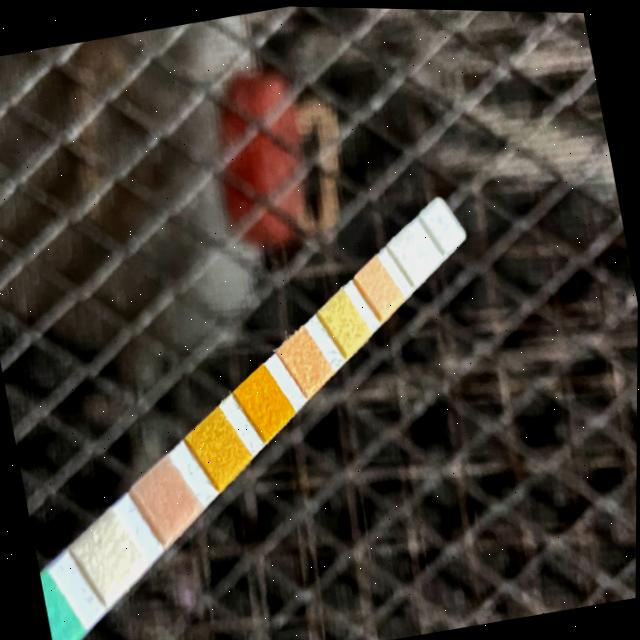Bilirubin: (86, 521, 134, 591)
Blood: (247, 377, 285, 433)
Glucose: (42, 586, 70, 640)
Ketone: (147, 468, 188, 528)
Leukocytes: (433, 208, 454, 239)
Nitrite: (400, 231, 430, 270)
Protein: (332, 299, 361, 346)
SpGravity: (200, 416, 239, 476)
Urobilinogen: (369, 266, 392, 307)
pH: (291, 334, 319, 387)
